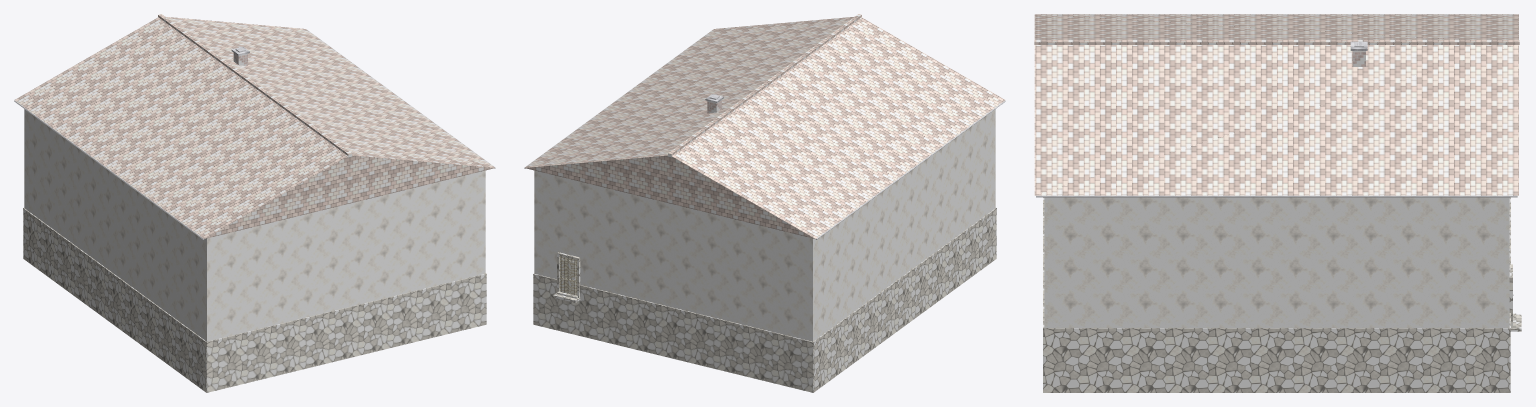
The picture shows the model from 3 angles, left to right: view 1: azimuth 30°, elevation 25°; view 2: azimuth 150°, elevation 25°; view 3: azimuth 270°, elevation 25°; orthographic projection. The views are drawn at different scales.
Visible parts, largest first — view 1: b1088806833; view 2: b1088806833; view 3: b1088806833.
Part boxes in pixels (left/top/right/bottom): b1088806833: left=14, top=14, right=495, bottom=392; b1088806833: left=524, top=14, right=1005, bottom=392; b1088806833: left=1034, top=14, right=1521, bottom=392.
Size of the model in its own units: 16.08 by 11.24 by 18.18.
14 materials, 14 textured.
